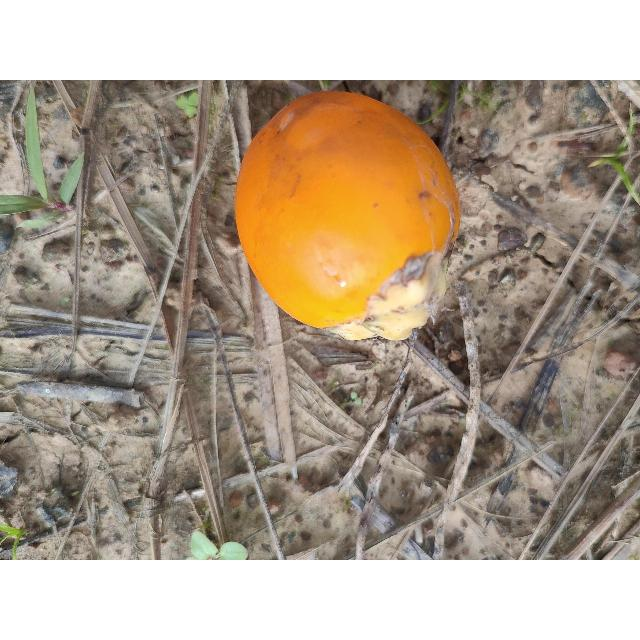good: (233, 91, 462, 340)
